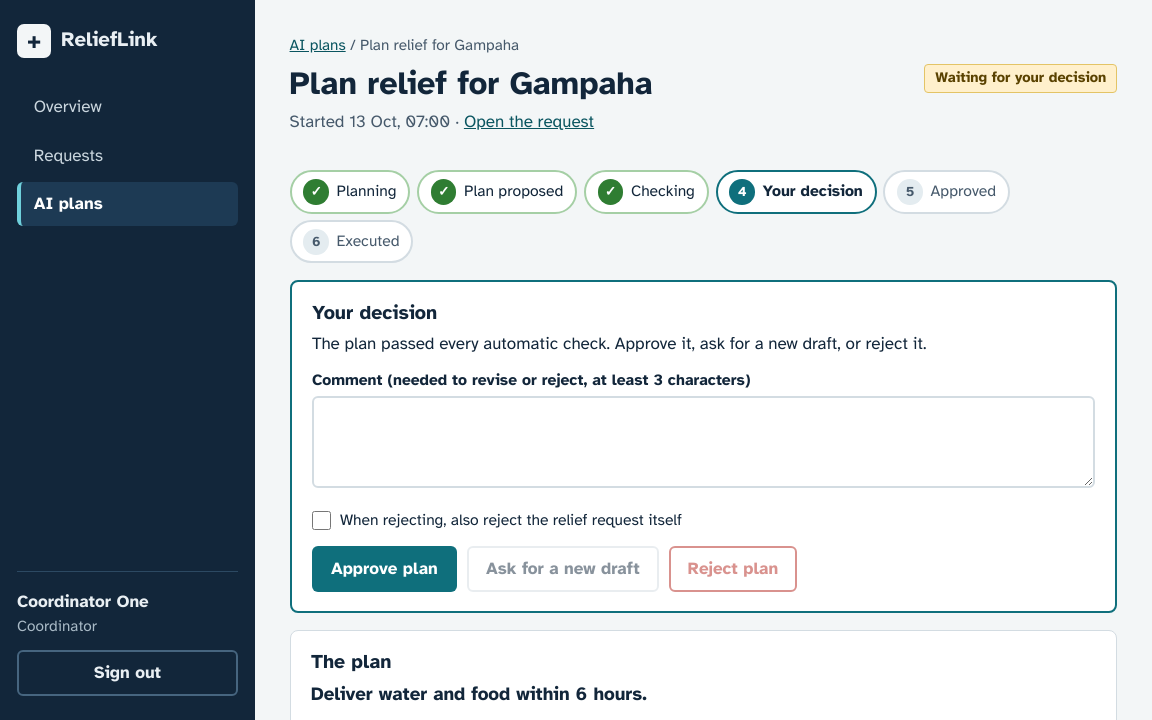
Test: Workflow detail: actions › rejects the plan and can reject the request too
Type "Unsafe route" into the text box labelled "Comment (needed to revise or reject, at least 3 characters)" at (703, 442), box [312, 396, 1095, 488]
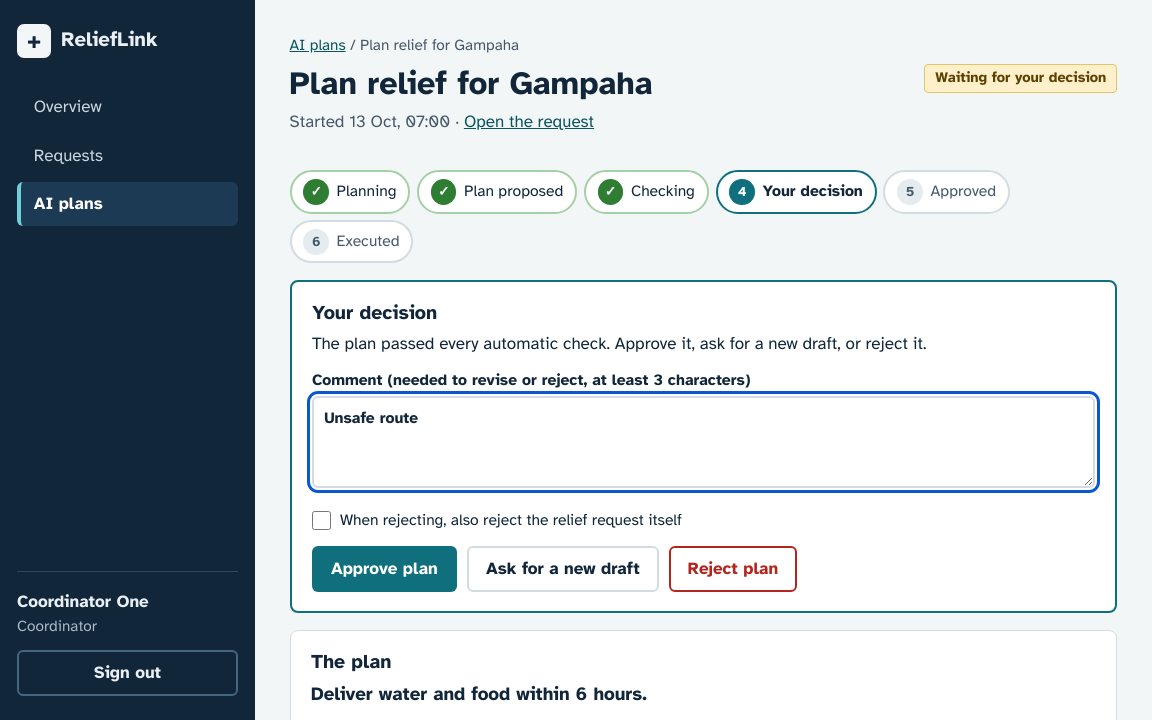
Click the checkbox labelled "When rejecting, also reject the relief request itself" at (322, 521), box [312, 511, 331, 530]
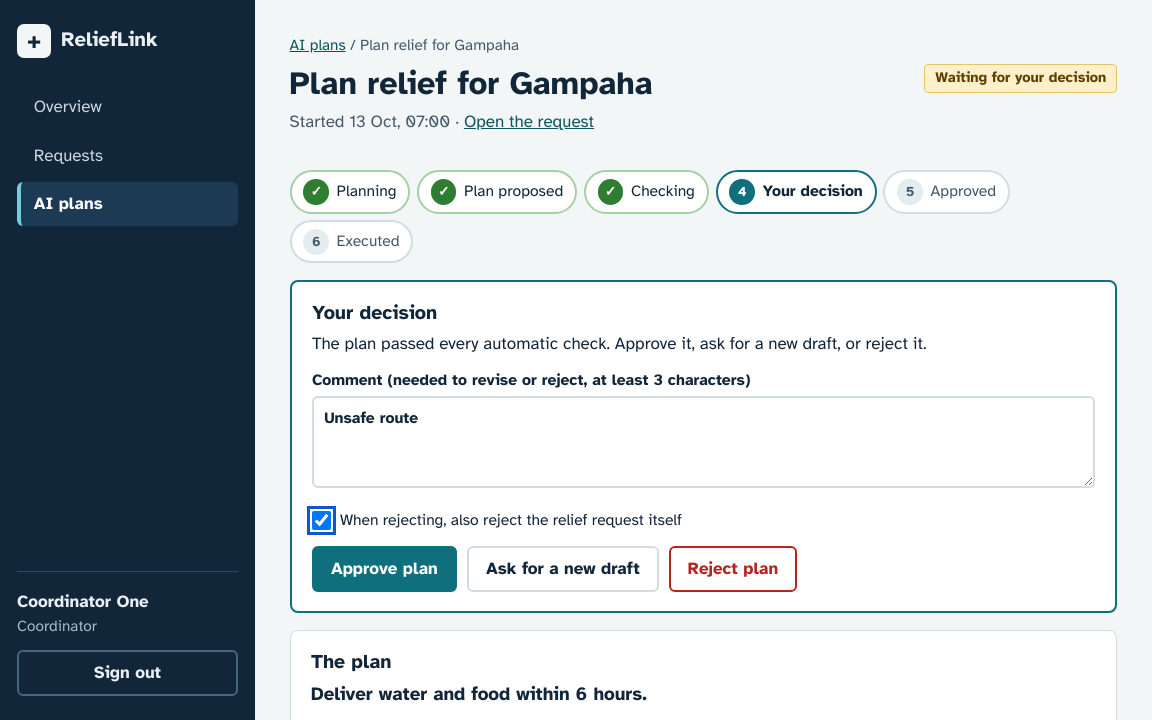
Click the button "Reject plan" at (733, 569), box [669, 546, 797, 592]
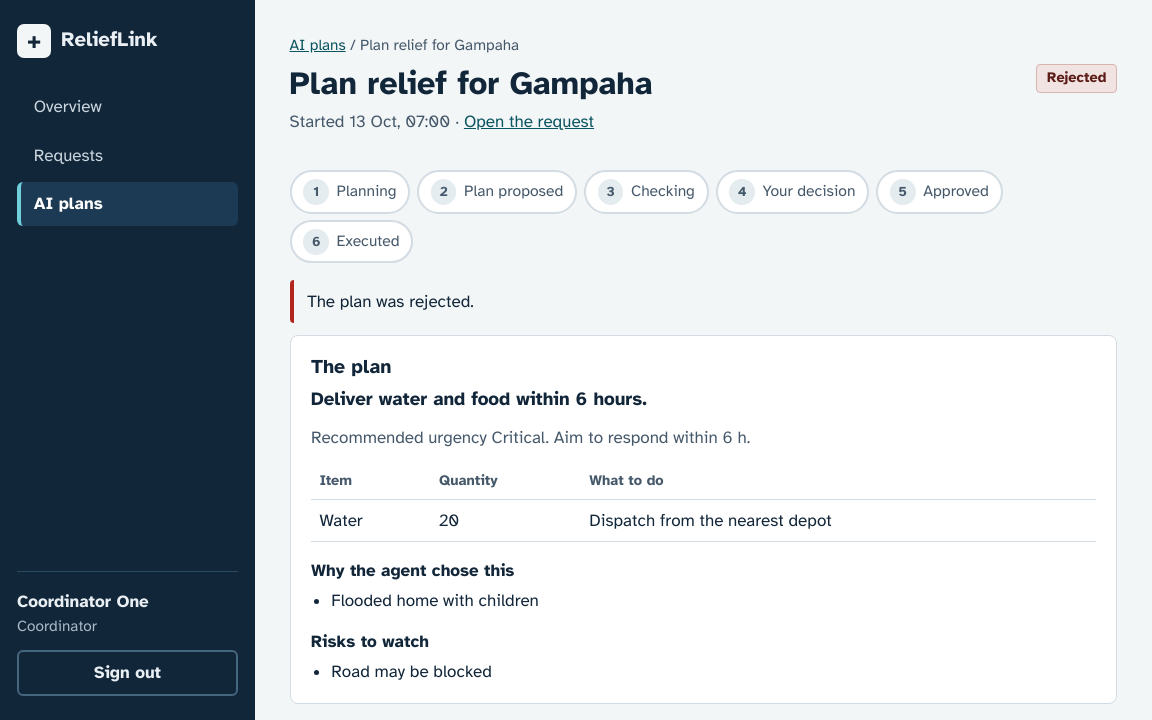
Check: the text "The plan was rejected." is shown, box [290, 280, 1117, 323]
